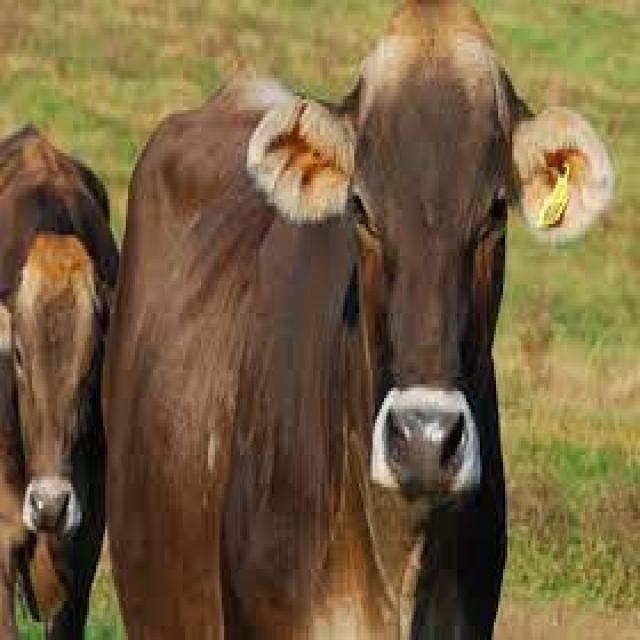cowFace: (244, 11, 606, 540), (5, 195, 172, 548)
